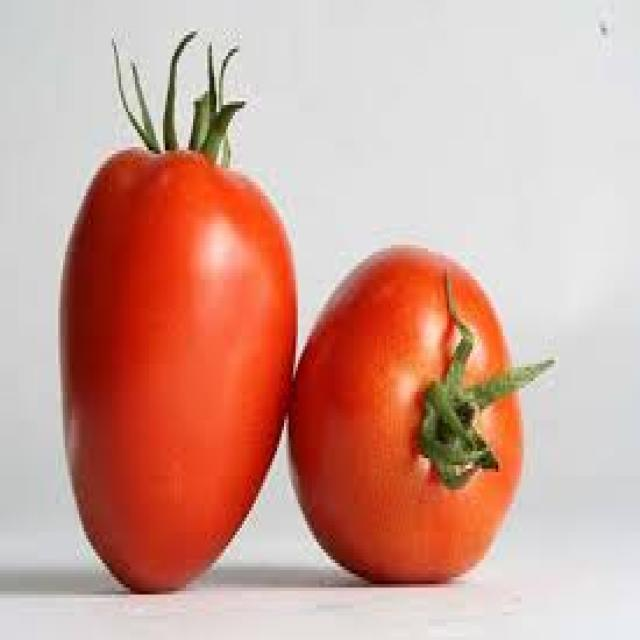Fresh_tomato: (45, 123, 298, 588), (306, 179, 516, 602)
